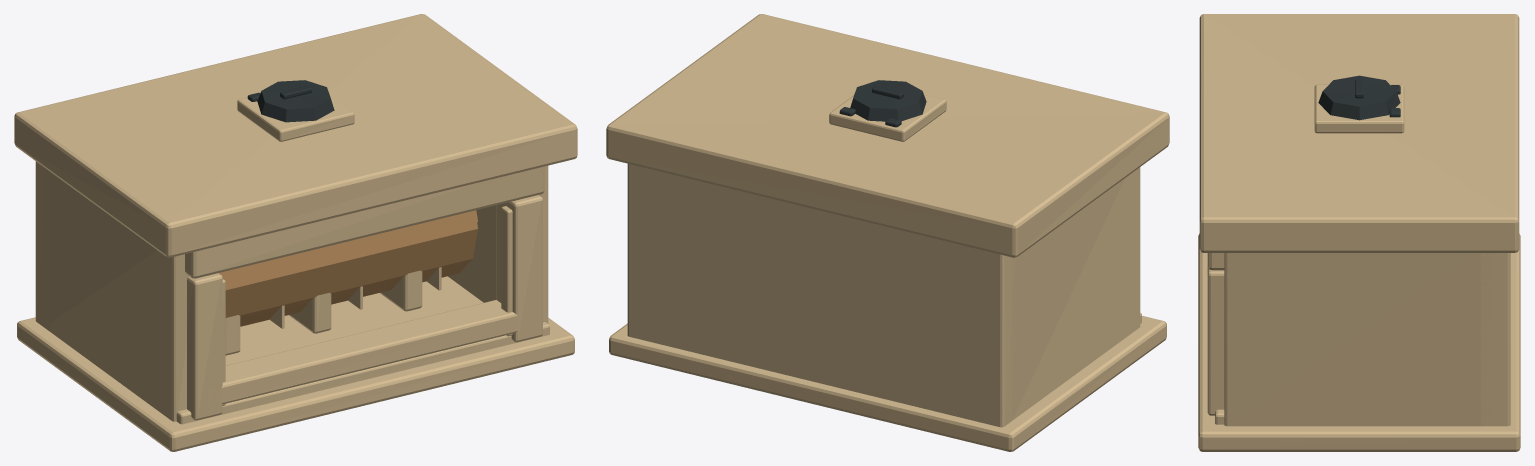
File: Cistern.glb
3 renders of one model, left to right at view 1: azimuth 30°, elevation 25°; view 2: azimuth 150°, elevation 25°; view 3: azimuth 270°, elevation 25°, orthographic. The views are drawn at different scales.
Visible parts, largest first — view 1: cistern-static-cistern-warm-concrete-mat, cistern-static-cistern-cutaway-concrete-mat, cistern-static-cistern-tank-grey-mat, cistern-static-cistern-charcoal-hatch-mat; view 2: cistern-static-cistern-warm-concrete-mat, cistern-static-cistern-charcoal-hatch-mat, cistern-static-cistern-cutaway-concrete-mat; view 3: cistern-static-cistern-warm-concrete-mat, cistern-static-cistern-charcoal-hatch-mat, cistern-static-cistern-cutaway-concrete-mat.
Boxes of the visible parts, box(x1,y1,x2,y2) form: cistern-static-cistern-warm-concrete-mat: box(14, 14, 577, 451); cistern-static-cistern-cutaway-concrete-mat: box(176, 95, 549, 424); cistern-static-cistern-tank-grey-mat: box(219, 210, 477, 326); cistern-static-cistern-charcoal-hatch-mat: box(247, 80, 334, 122); cistern-static-cistern-warm-concrete-mat: box(606, 14, 1169, 451); cistern-static-cistern-charcoal-hatch-mat: box(839, 80, 926, 127); cistern-static-cistern-cutaway-concrete-mat: box(829, 94, 1141, 323); cistern-static-cistern-warm-concrete-mat: box(1198, 14, 1520, 451); cistern-static-cistern-charcoal-hatch-mat: box(1318, 75, 1400, 120); cistern-static-cistern-cutaway-concrete-mat: box(1215, 84, 1404, 424).
Size of the model in its own units: 3.98 by 2.38 by 2.62.
